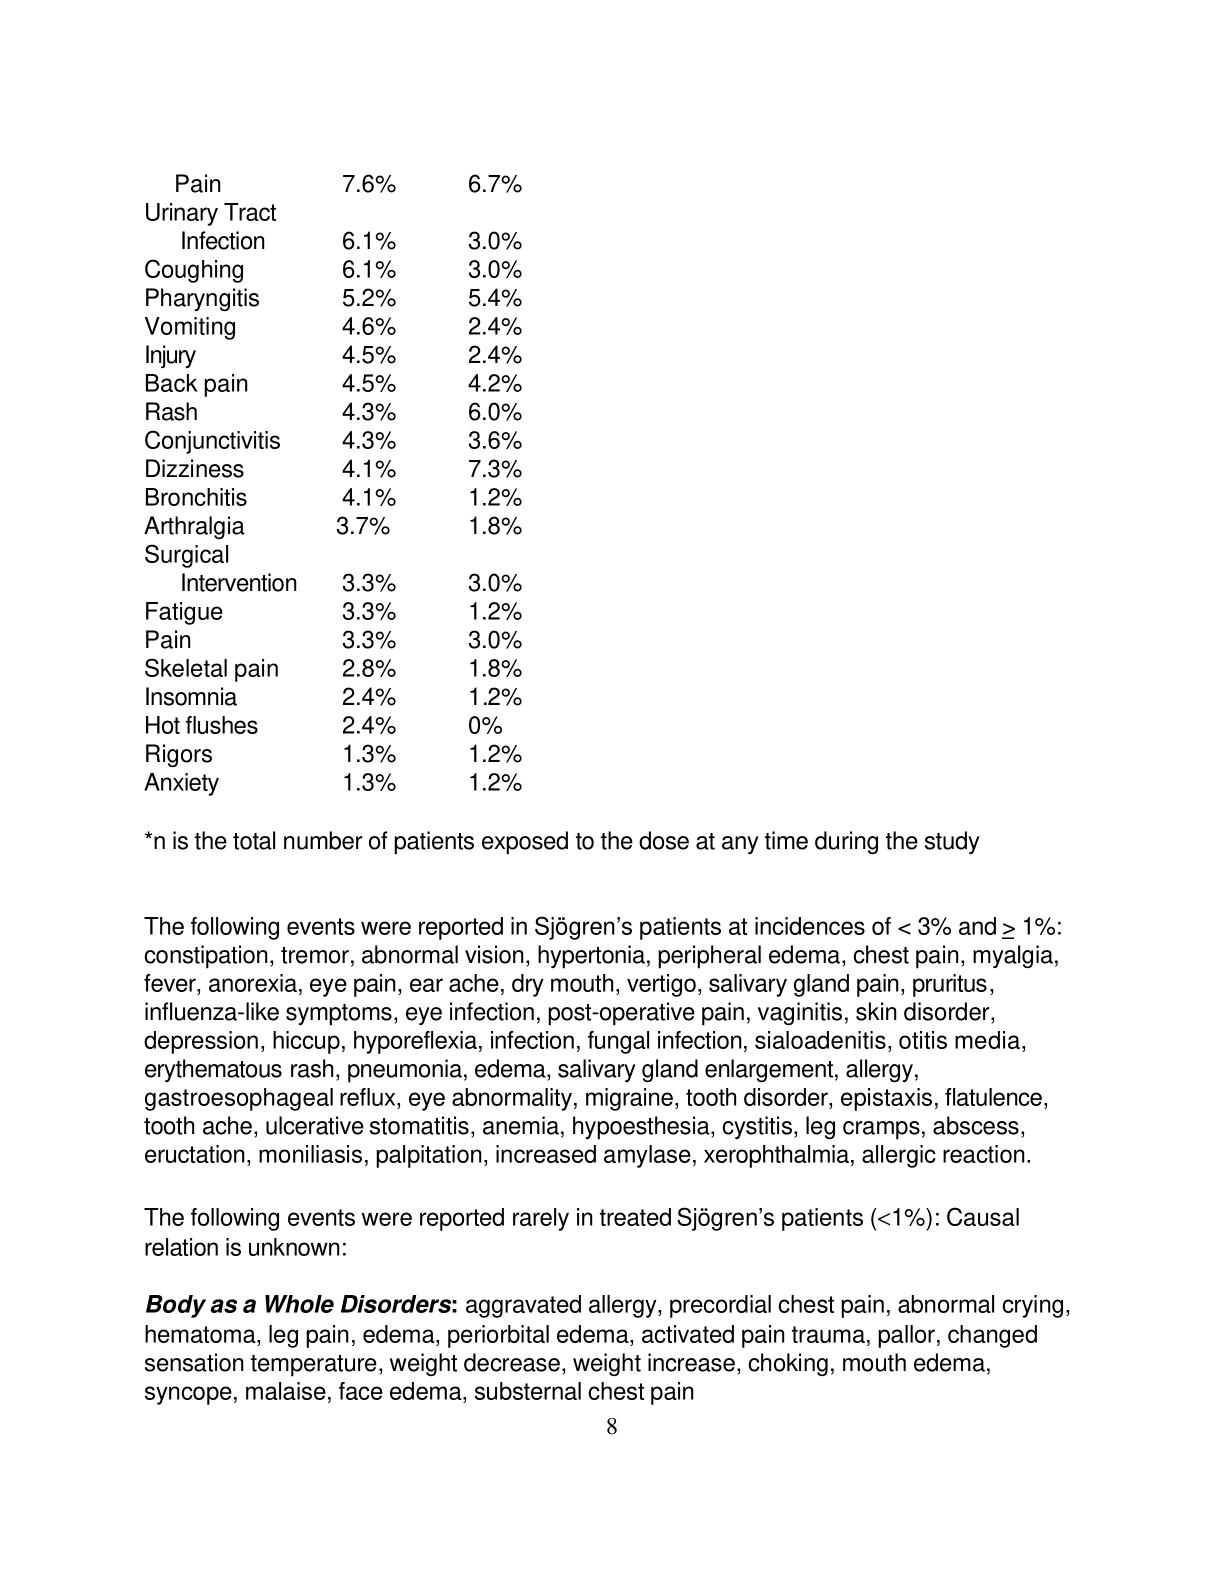nolines: (139, 167, 528, 796)
